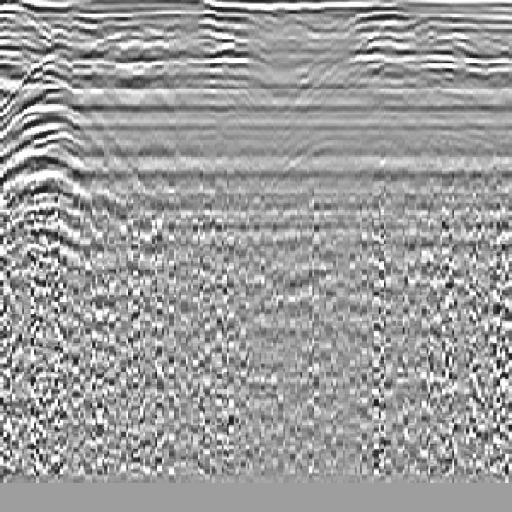metalic: (1, 42, 115, 282)
